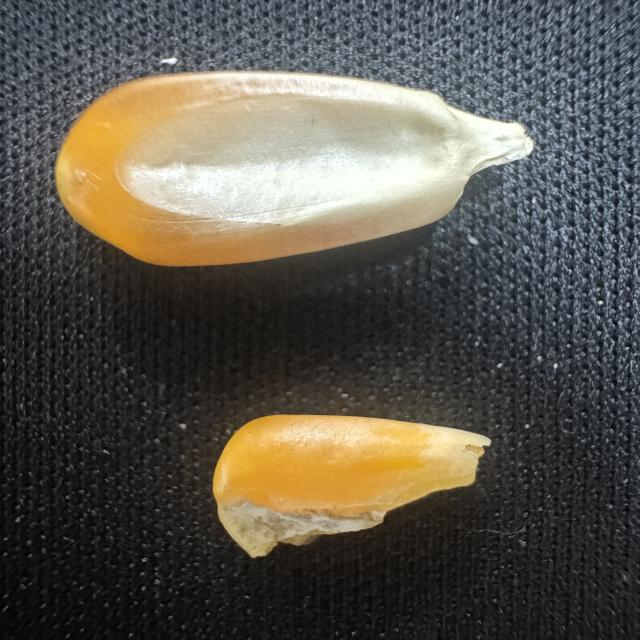Bad-Seed: (200, 407, 496, 555)
Good-Seed: (49, 64, 548, 278)
